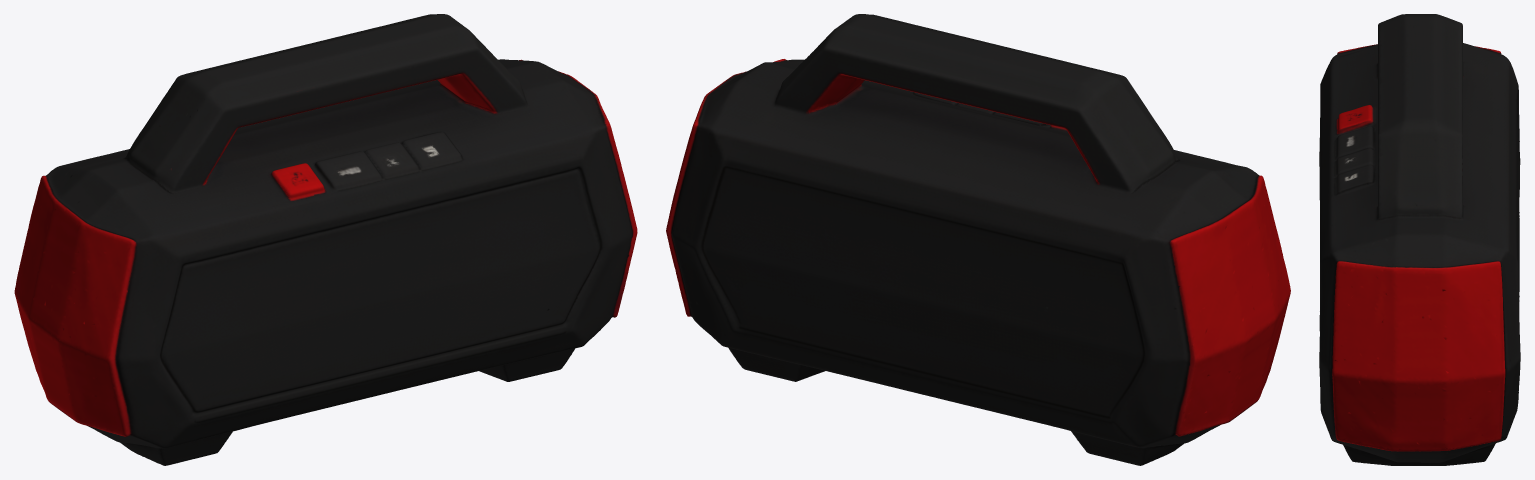
File: radio.glb
3 renders of one model, left to right at view 1: azimuth 30°, elevation 25°; view 2: azimuth 150°, elevation 25°; view 3: azimuth 270°, elevation 25°, orthographic. The views are drawn at different scales.
Parts seen in each view (by area): view 1: world; view 2: world; view 3: world.
Boxes of the visible parts, <box> form: world: <box>14,14,637,465</box>; world: <box>666,14,1290,465</box>; world: <box>1319,14,1520,465</box>.
Bounding box in the file's own units: 1 × 0.5771 × 0.3415.
1 material, 1 textured.
